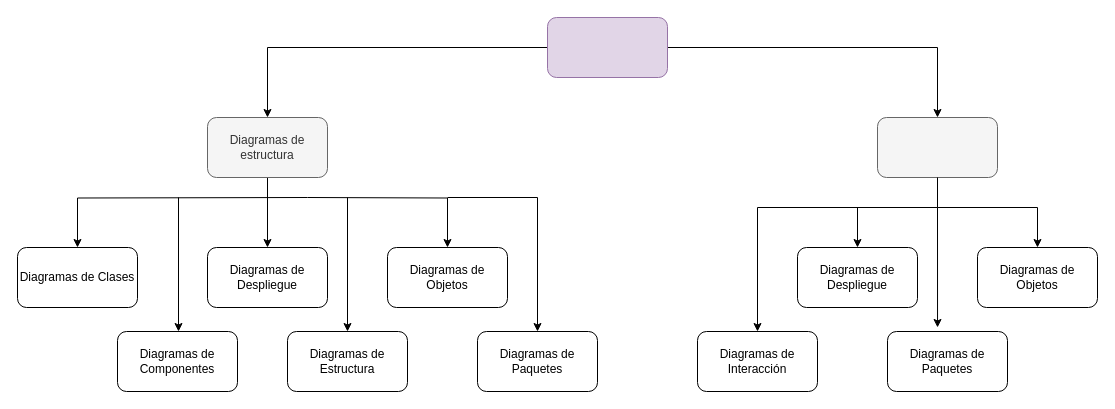
This 1115x409 diagram has some shape labels left out. Here are the shapes that lost their labels. From the top down, the centre of each, then its label:
(x=607, y=47): Tipos de Diagramas
(x=937, y=147): Diagramas de Comportamiento
